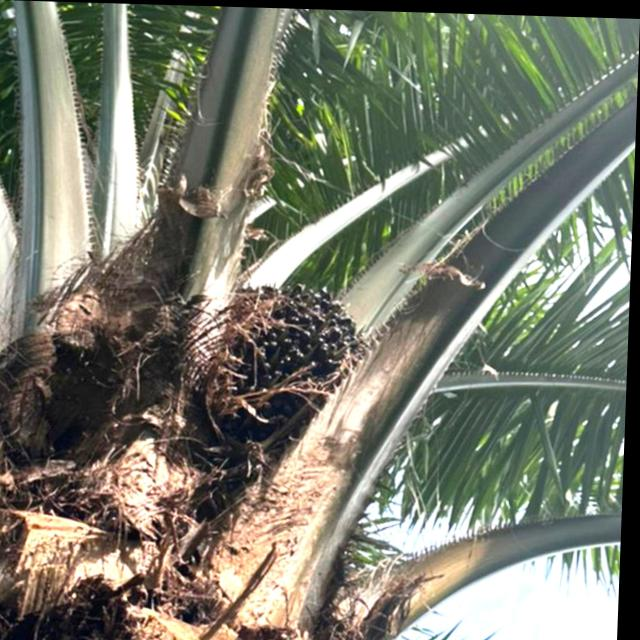almost: (213, 268, 371, 438)
